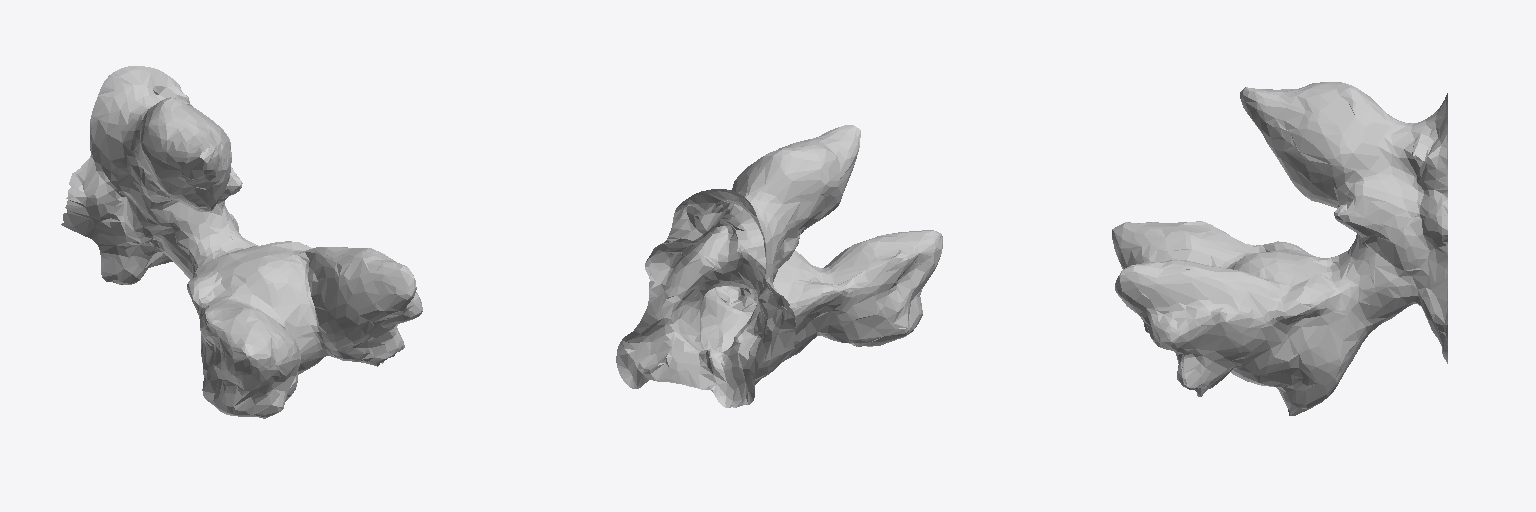
File: fennekin-32-Blender-OBJ-150K.obj sf.obj
The picture shows the model from 3 angles: view 1: azimuth 30°, elevation 25°; view 2: azimuth 150°, elevation 25°; view 3: azimuth 270°, elevation 25°; orthographic projection.
Visible parts, largest first — view 1: Object.1; view 2: Object.1; view 3: Object.1.
Boxes of the visible parts, <box> form: Object.1: <box>61,66,422,418</box>; Object.1: <box>616,125,942,407</box>; Object.1: <box>1112,82,1447,415</box>.
Size of the model in its own units: 58.88 by 73.16 by 77.35.